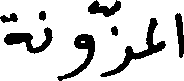ا: (174, 11, 182, 59)
ة: (0, 11, 29, 53)
ز: (90, 23, 132, 77)
ل: (145, 15, 157, 43)
م: (143, 39, 167, 52)
ن: (36, 8, 50, 53)
و: (58, 23, 92, 79)
